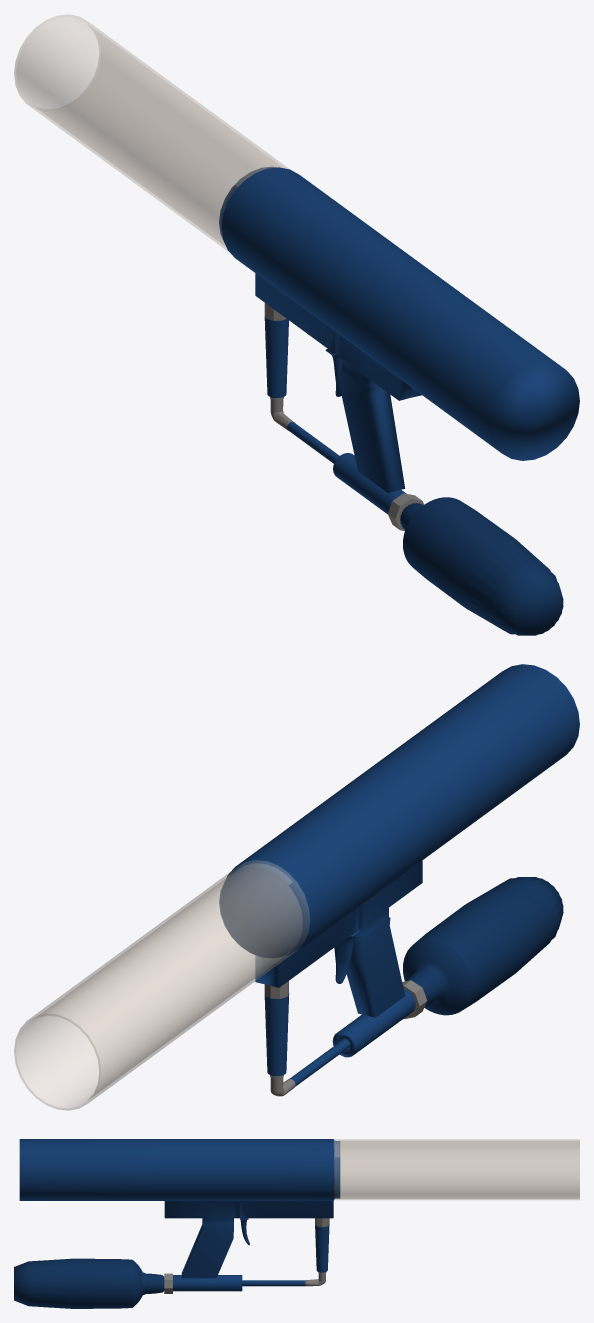
The model's file is tshirtGunCombined1.fbx.
3 views of the same model, one above another, from view 1: azimuth 30°, elevation 25°; view 2: azimuth 150°, elevation 25°; view 3: azimuth 270°, elevation 25° (orthographic). The views are drawn at different scales.
Visible parts, largest first — view 1: pPipe4; view 2: pPipe4; view 3: pPipe4.
Boxes of the visible parts, x1,y1,x2,y2 form: pPipe4: (14,14,579,635); pPipe4: (14,664,579,1110); pPipe4: (14,1139,579,1308).
Size of the model in its own units: 7.34 by 21.51 by 66.96.
